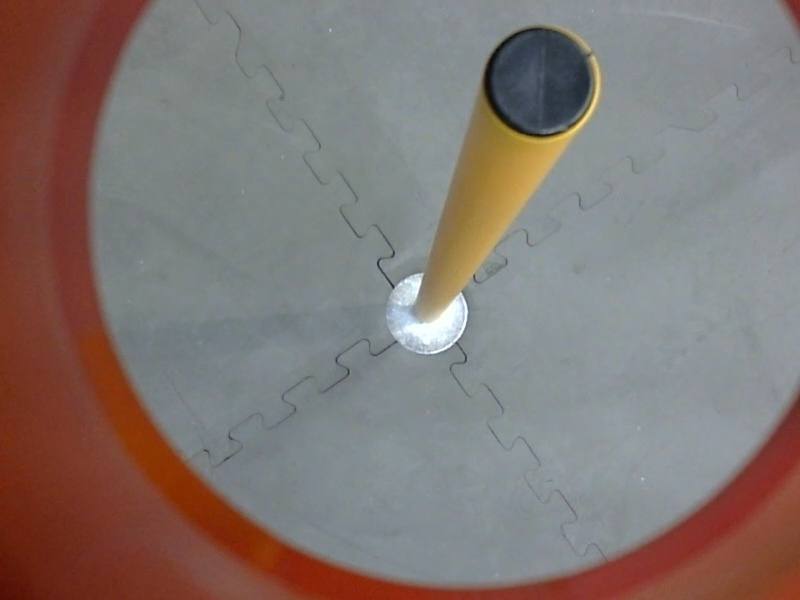tip: (475, 17, 608, 151)
